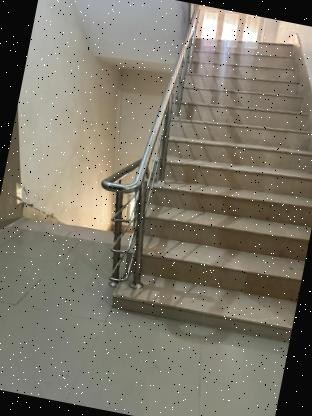stair: (126, 14, 312, 359)
